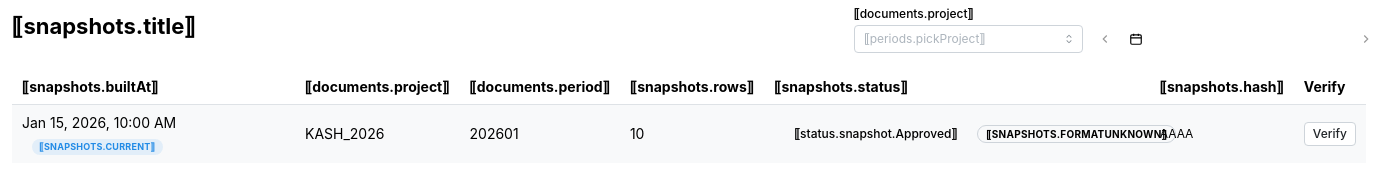
Test: SnapshotsPage: перевірка незмінності зрізу (BE-17) › збіг за старим форматом — «unchanged» і нейтральна примітка, без сум і без тривоги
The image size is (1390, 195).
Click the button "Verify" at coordinates (1330, 134), box [1304,122,1356,146]
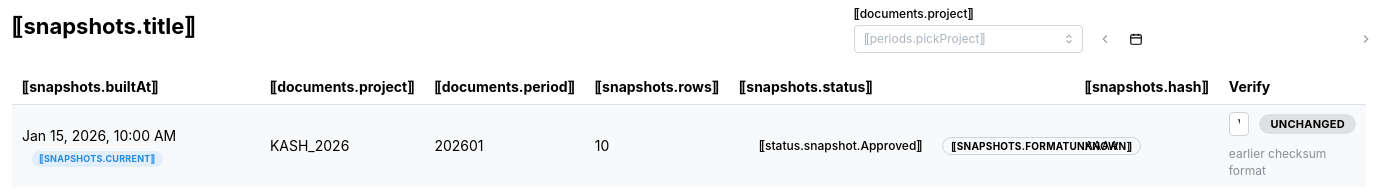
expect the text "unchanged" is shown: met, box [1270,116,1345,134]
expect the text "earlier checksum format" is shown: met, box [1229,146,1326,178]
